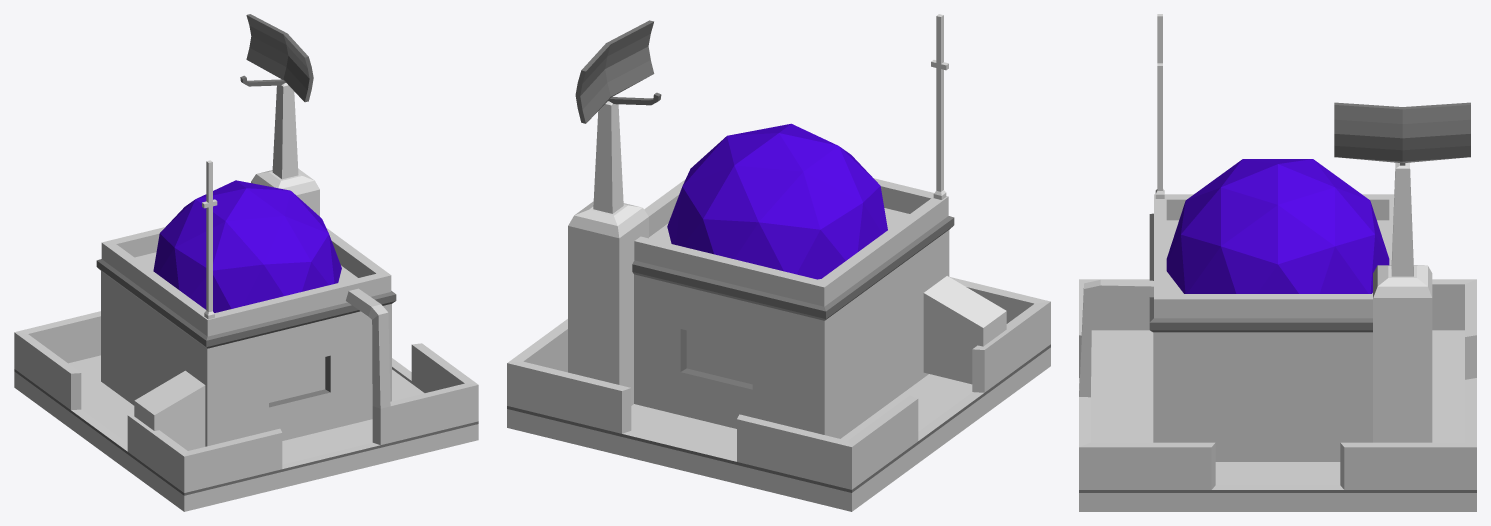
3 renders of one model, left to right at view 1: azimuth 30°, elevation 25°; view 2: azimuth 150°, elevation 25°; view 3: azimuth 270°, elevation 25°, orthographic. The views are drawn at different scales.
Visible parts, largest first — view 1: Cube, Icosphere, Cube.002, Cube.003, Cube.001, Cube.004; view 2: Cube, Icosphere, Cube.001, Cube.002, Cube.003, Cube.004; view 3: Cube, Icosphere, Cube.001, Cube.003, Cube.004.
Boxes of the visible parts, x1=… form: Cube: x1=14, y1=227, x2=478, y2=511; Icosphere: x1=153, y1=180, x2=341, y2=312; Cube.002: x1=134, y1=370, x2=205, y2=450; Cube.003: x1=240, y1=14, x2=313, y2=102; Cube.001: x1=251, y1=83, x2=319, y2=216; Cube.004: x1=202, y1=160, x2=217, y2=319; Cube: x1=507, y1=178, x2=1050, y2=511; Icosphere: x1=667, y1=123, x2=887, y2=279; Cube.001: x1=568, y1=101, x2=648, y2=405; Cube.002: x1=923, y1=276, x2=1006, y2=384; Cube.003: x1=575, y1=20, x2=661, y2=123; Cube.004: x1=931, y1=14, x2=948, y2=199; Cube: x1=1079, y1=194, x2=1476, y2=511; Icosphere: x1=1166, y1=159, x2=1389, y2=293; Cube.001: x1=1373, y1=162, x2=1432, y2=442; Cube.003: x1=1334, y1=102, x2=1470, y2=165; Cube.004: x1=1155, y1=14, x2=1164, y2=198.
Bounding box in the file's own units: 1345 × 1420 × 1345.
